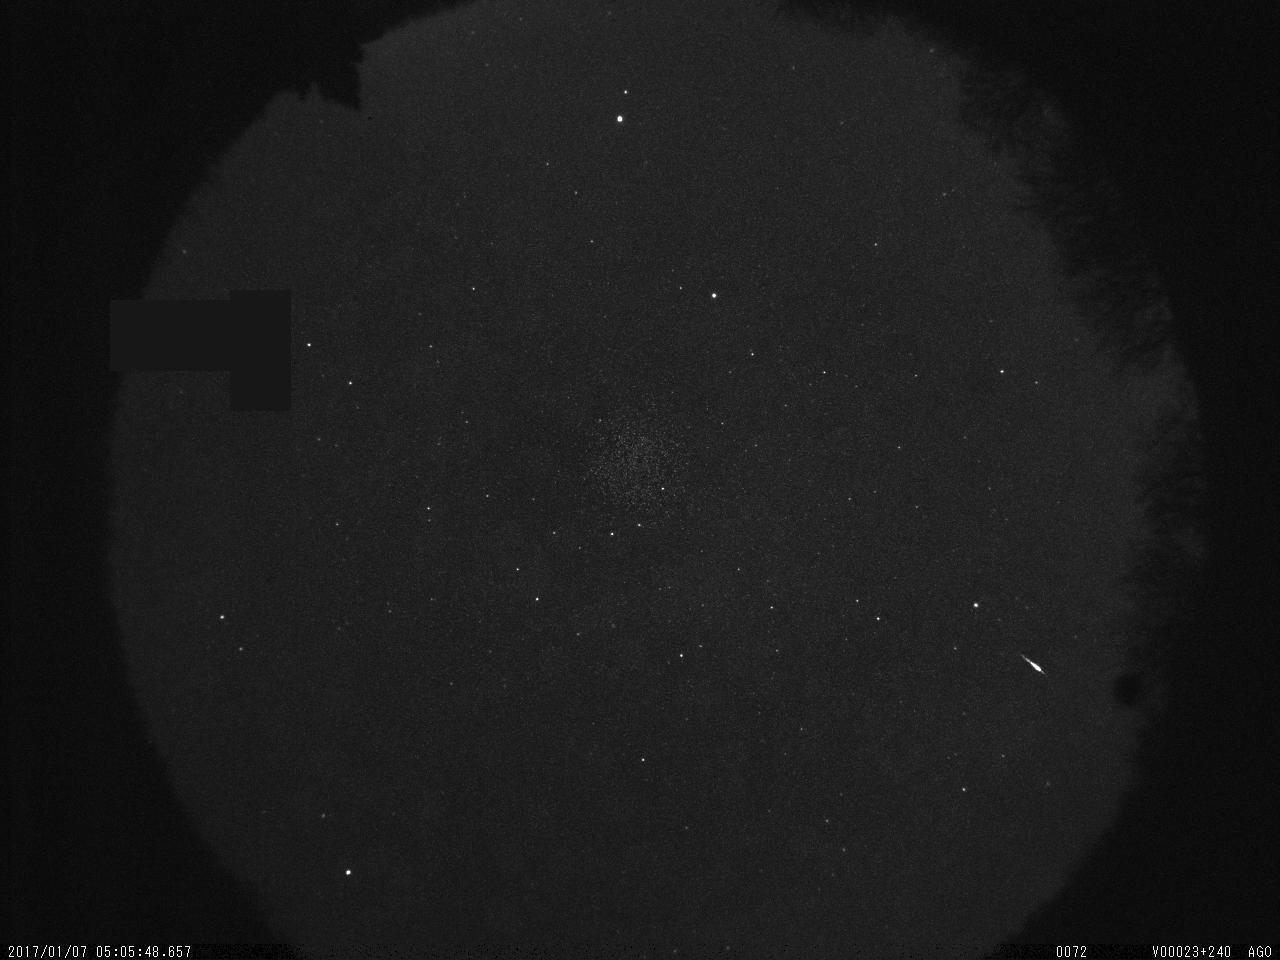Meteor: (1015, 645, 1052, 683)
